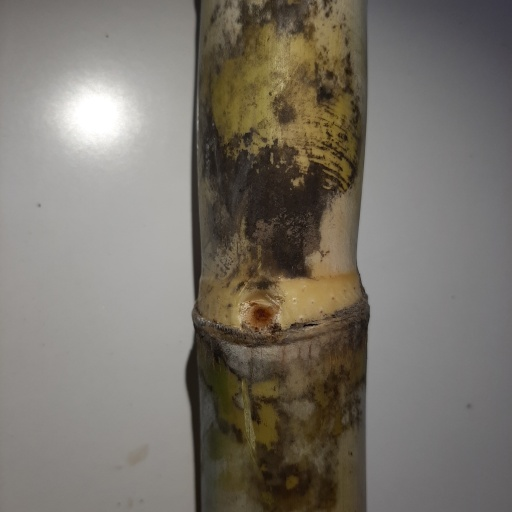Damage_Bud: (246, 301, 275, 328)
